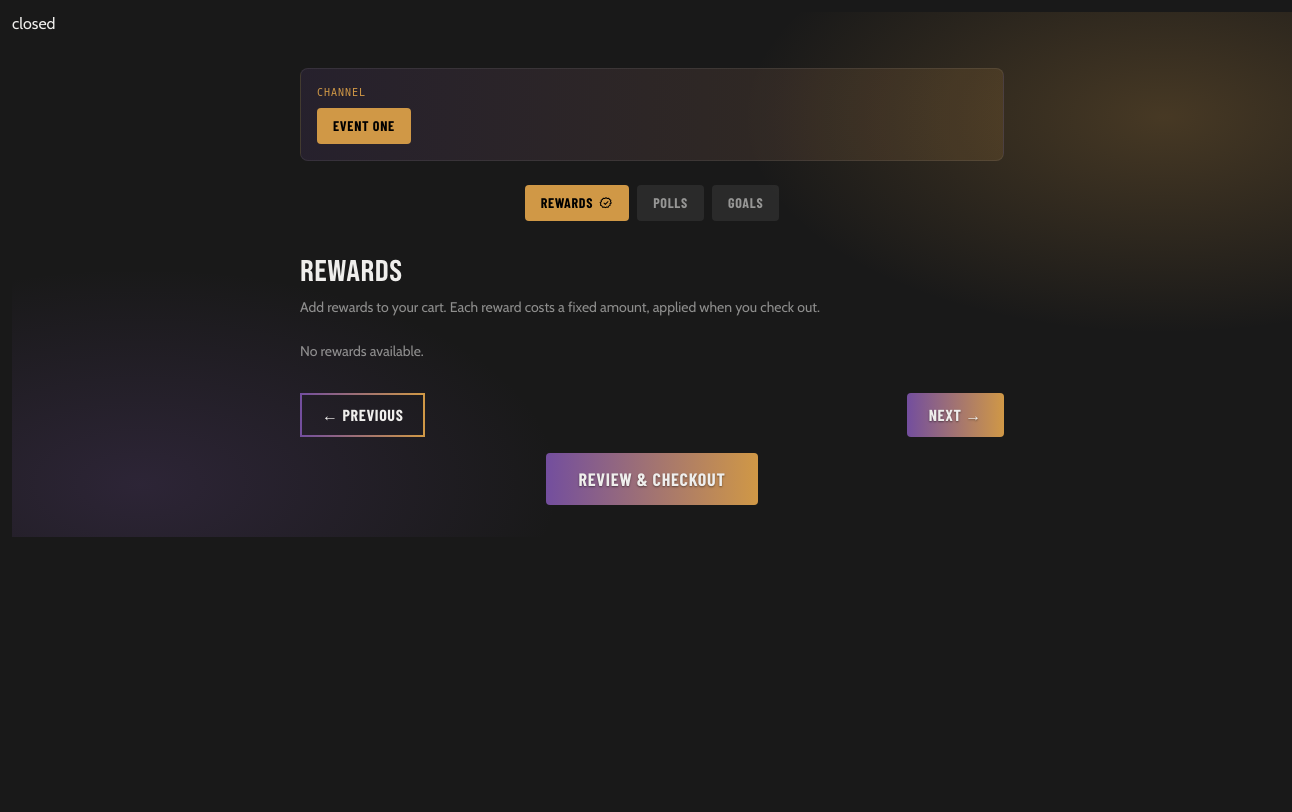
Test: DonateFlow (tabbed browse page) › warns instead of opening the drawer when checking out before every category is reviewed
This screenshot has width=1292, height=812.
Check: the text "No rewards available." is shown, box [300,342,424,360]
Step 1. Click the button "review & checkout" → x=652, y=479, box [546,453,758,505]
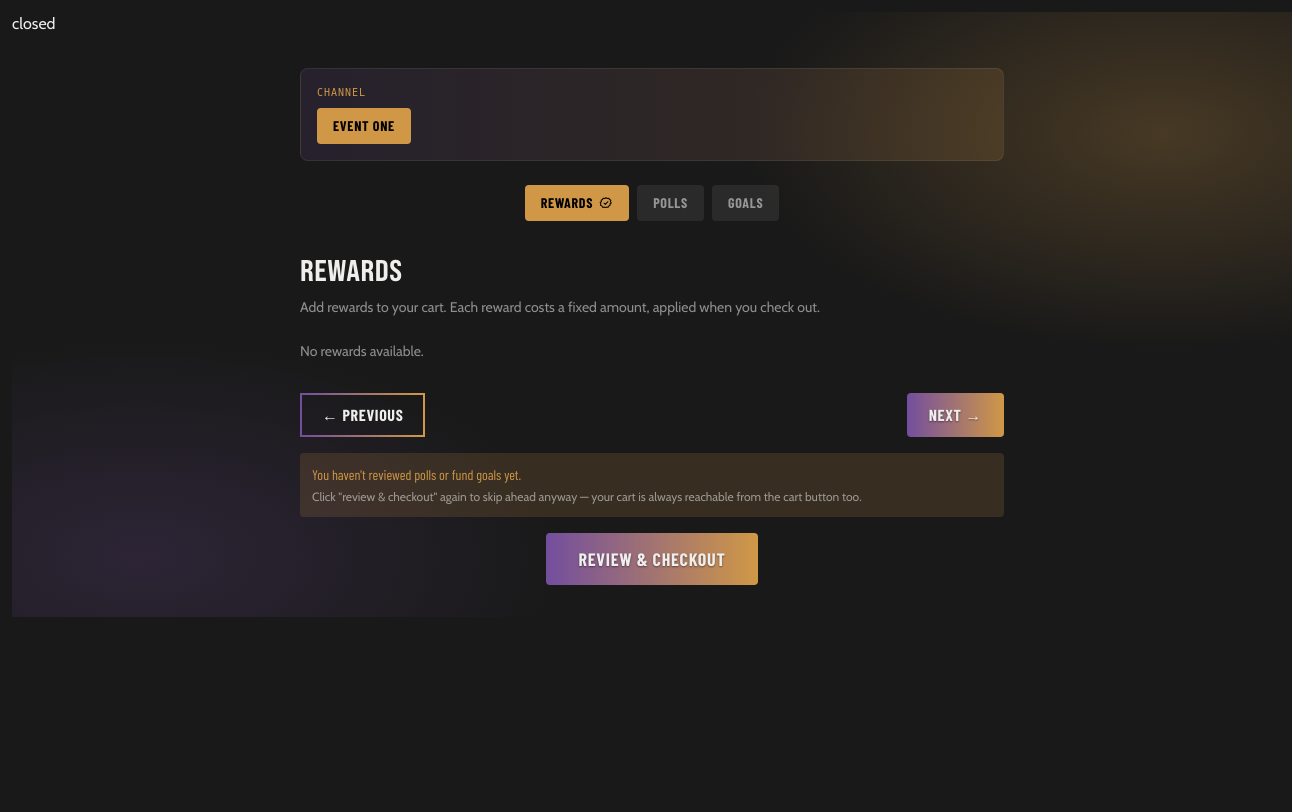
Check: the text with test id "drawer-state" reads "closed", box [12,14,56,33]
Check: the text "You haven't reviewed polls or fund goals yet." is shown, box [312,466,521,483]
